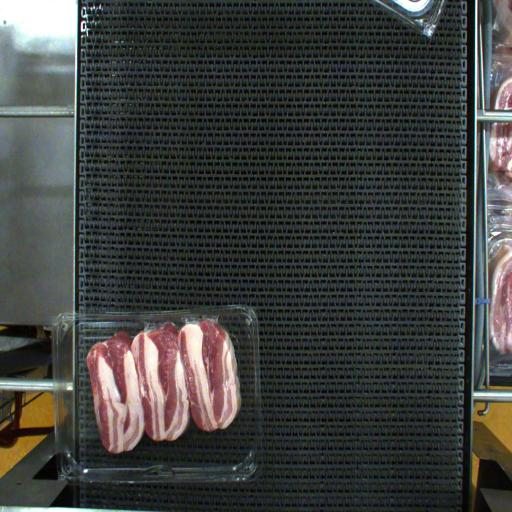packaging-error: (109, 299, 236, 344)
